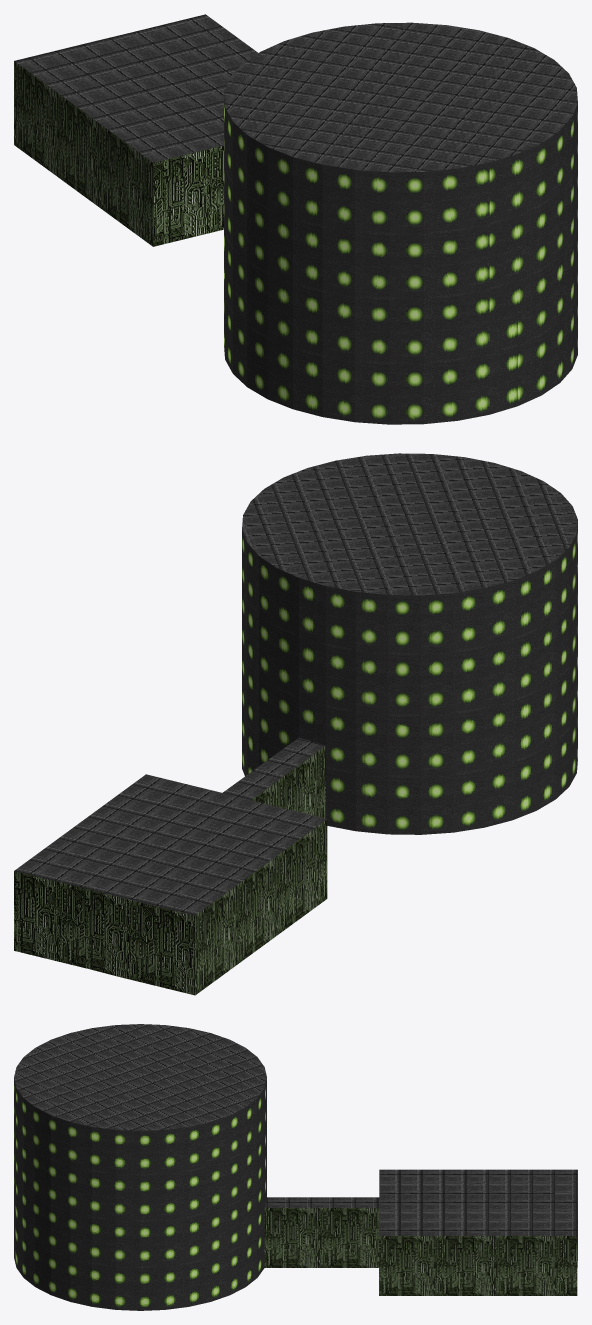
File: TestRoom2.glb
The picture shows the model from 3 angles, top to bottom: view 1: azimuth 30°, elevation 25°; view 2: azimuth 150°, elevation 25°; view 3: azimuth 270°, elevation 25°; orthographic projection. The views are drawn at different scales.
Visible parts, largest first — view 1: Plane; view 2: Plane; view 3: Plane.
Part boxes in pixels (x1,y1,x2,y2): Plane: [14, 14, 577, 424]; Plane: [14, 453, 577, 995]; Plane: [14, 1024, 577, 1310].
Bounding box in the file's own units: 7.65 × 6 × 17.04.
Materials: 3 (3 with a texture image).
